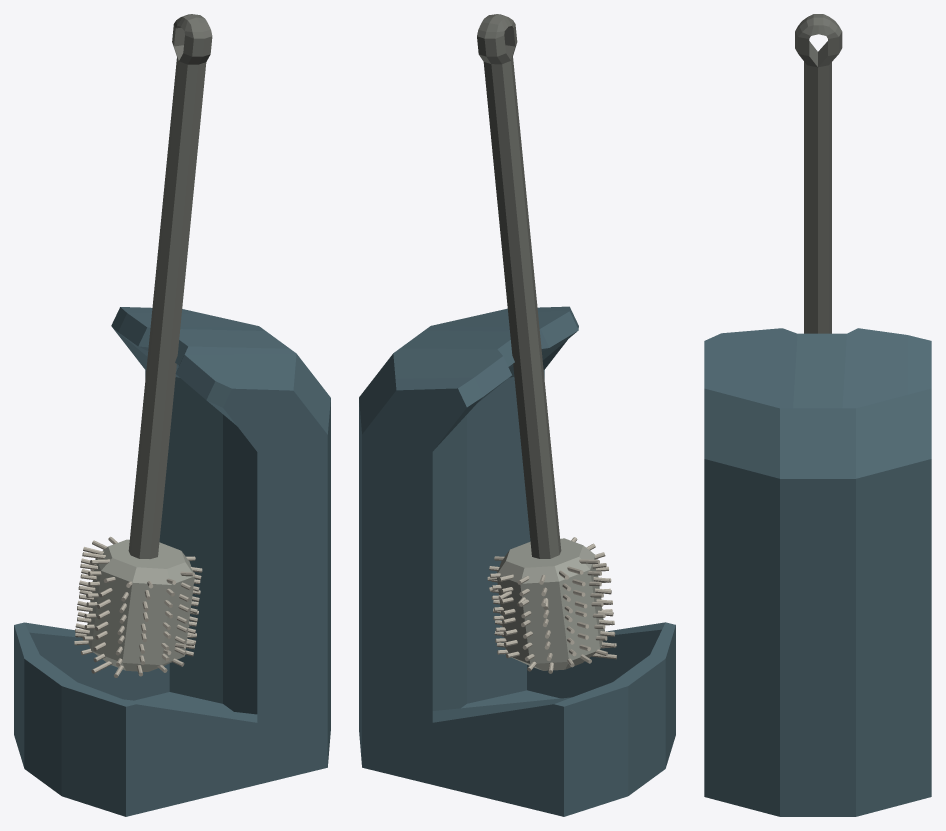
The model's file is Klobürste.fbx.
3 views of the same model, side by side, from view 1: azimuth 30°, elevation 25°; view 2: azimuth 150°, elevation 25°; view 3: azimuth 270°, elevation 25° (orthographic).
Visible parts, largest first — view 1: Halterbürste, Stange, Bürste, Borsten; view 2: Halterbürste, Stange, Bürste, Borsten; view 3: Halterbürste, Stange.
Part boxes in pixels (box(x1,y1,x2,y2)): Halterbürste: box(14, 307, 330, 816); Stange: box(128, 14, 212, 558); Bürste: box(86, 539, 194, 671); Borsten: box(74, 536, 202, 677); Halterbürste: box(359, 306, 675, 816); Stange: box(477, 14, 561, 558); Bürste: box(497, 538, 604, 670); Borsten: box(487, 537, 616, 673); Halterbürste: box(704, 328, 931, 816); Stange: box(795, 14, 842, 333).
Size of the model in its own units: 74.65 by 193 by 53.71.
